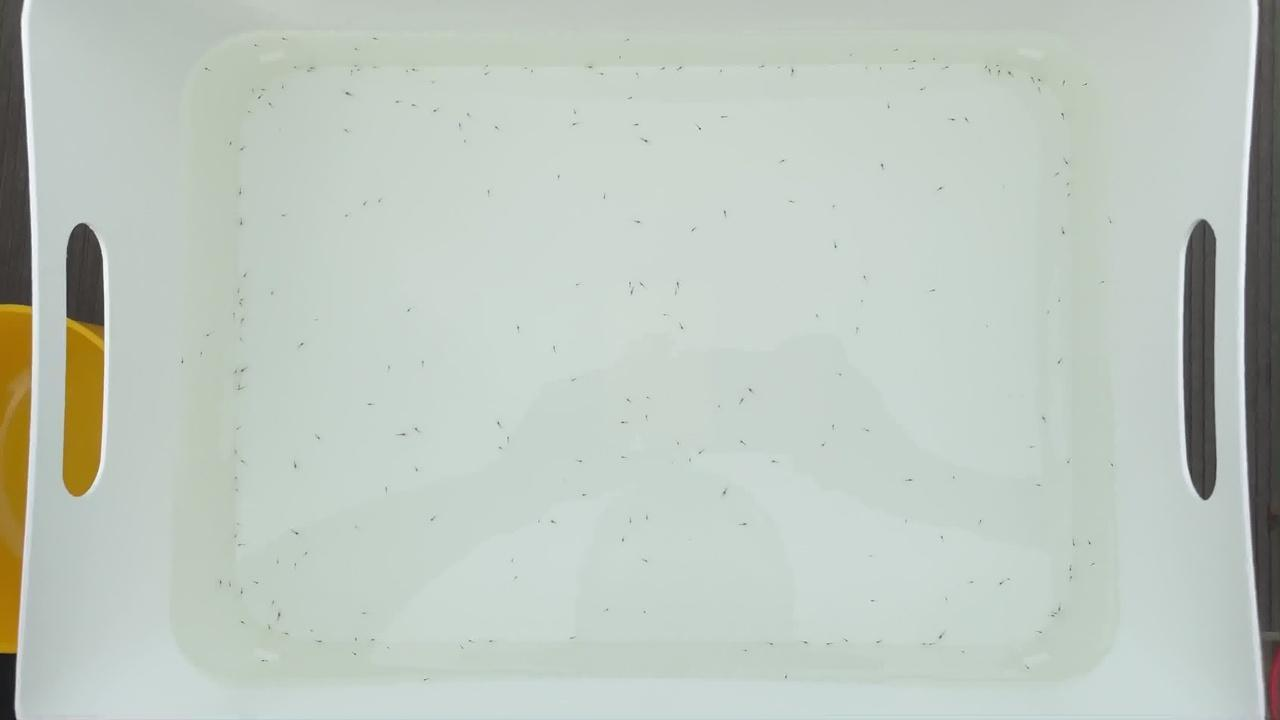shrimp: (1079, 82, 1091, 90), (1058, 78, 1070, 86), (1034, 75, 1046, 83), (1028, 76, 1040, 84), (1004, 69, 1016, 77), (994, 68, 1006, 76), (985, 68, 997, 76), (979, 64, 991, 72), (993, 62, 1005, 70), (942, 64, 954, 72), (929, 55, 941, 63), (908, 59, 920, 67), (907, 66, 919, 74), (891, 46, 903, 54), (876, 67, 888, 75), (861, 64, 873, 72), (787, 67, 799, 75), (755, 63, 767, 71), (717, 68, 729, 76), (675, 66, 687, 74), (659, 65, 671, 73), (622, 36, 634, 44), (615, 53, 627, 61), (632, 72, 644, 80), (597, 73, 609, 81), (586, 64, 598, 72), (569, 111, 581, 119), (568, 121, 580, 129), (554, 173, 566, 181), (625, 93, 637, 101), (632, 122, 644, 130), (640, 138, 652, 146), (696, 125, 708, 133), (719, 113, 731, 121), (778, 157, 790, 165), (883, 103, 895, 111), (918, 87, 930, 95), (947, 118, 959, 126), (961, 118, 973, 126), (1034, 87, 1046, 95), (1059, 112, 1071, 120), (1061, 158, 1073, 166), (1052, 172, 1064, 180), (1063, 181, 1075, 189), (1063, 191, 1075, 199), (1059, 228, 1071, 236), (1105, 219, 1117, 227), (935, 188, 947, 196), (877, 161, 889, 169), (786, 200, 798, 208), (719, 211, 731, 219), (688, 229, 700, 237), (634, 220, 646, 228), (597, 194, 609, 202), (827, 204, 839, 212), (831, 243, 843, 251), (1098, 278, 1110, 286), (1055, 297, 1067, 305), (1043, 310, 1055, 318), (1054, 359, 1066, 367), (1040, 416, 1052, 424), (928, 286, 940, 294), (859, 274, 871, 282), (857, 298, 869, 306), (853, 326, 865, 334), (811, 312, 823, 320), (677, 324, 689, 332), (659, 311, 671, 319), (671, 291, 683, 299), (674, 280, 686, 288), (637, 280, 649, 288), (626, 290, 638, 298), (625, 280, 637, 288), (574, 280, 586, 288), (550, 345, 562, 353), (569, 377, 581, 385), (624, 396, 636, 404), (618, 420, 630, 428), (642, 415, 654, 423), (642, 395, 654, 403), (712, 403, 724, 411), (737, 396, 749, 404), (746, 388, 758, 396), (834, 372, 846, 380), (829, 423, 841, 431), (818, 443, 830, 451), (769, 460, 781, 468), (736, 438, 748, 446), (861, 429, 873, 437), (903, 478, 915, 486), (947, 474, 959, 482), (1026, 444, 1038, 452), (1065, 458, 1077, 466), (1107, 463, 1119, 471), (1034, 481, 1046, 489), (975, 520, 987, 528), (938, 535, 950, 543), (902, 518, 914, 526), (866, 598, 878, 606), (874, 637, 886, 645), (919, 642, 931, 650), (925, 641, 937, 649), (936, 633, 948, 641), (942, 594, 954, 602), (969, 579, 981, 587), (996, 580, 1008, 588), (1003, 576, 1015, 584), (1065, 576, 1077, 584), (1066, 565, 1078, 573), (1088, 561, 1100, 569), (1085, 539, 1097, 547), (1069, 541, 1081, 549), (1056, 604, 1068, 612), (1048, 613, 1060, 621), (1035, 630, 1047, 638), (1023, 663, 1035, 671), (959, 649, 971, 657), (841, 638, 853, 646), (823, 642, 835, 650), (802, 640, 814, 648), (781, 676, 793, 684), (766, 642, 778, 650), (741, 648, 753, 656), (740, 520, 752, 528), (721, 491, 733, 499), (694, 450, 706, 458), (685, 457, 697, 465), (673, 440, 685, 448), (618, 454, 630, 462), (576, 458, 588, 466), (578, 492, 590, 500), (548, 520, 560, 528), (619, 536, 631, 544), (626, 517, 638, 525), (641, 516, 653, 524), (641, 558, 653, 566), (639, 609, 651, 617), (603, 607, 615, 615), (565, 635, 577, 643), (257, 658, 269, 666), (238, 619, 250, 627), (237, 588, 249, 596), (225, 580, 237, 588), (215, 579, 227, 587), (236, 543, 248, 551), (231, 533, 243, 541), (233, 521, 245, 529), (292, 532, 304, 540), (300, 550, 312, 558), (292, 562, 304, 570), (272, 559, 284, 567), (252, 580, 264, 588), (269, 599, 281, 607), (273, 612, 285, 620), (265, 624, 277, 632), (281, 632, 293, 640), (308, 628, 320, 636), (315, 637, 327, 645), (350, 650, 362, 658), (351, 636, 363, 644), (370, 637, 382, 645), (359, 610, 371, 618), (422, 677, 434, 685), (457, 646, 469, 654), (464, 637, 476, 645), (485, 638, 497, 646), (510, 575, 522, 583), (507, 558, 519, 566), (427, 515, 439, 523), (412, 466, 424, 474), (382, 485, 394, 493), (290, 464, 302, 472), (313, 434, 325, 442), (232, 425, 244, 433), (230, 449, 242, 457), (238, 460, 250, 468), (231, 474, 243, 482), (232, 488, 244, 496), (365, 401, 377, 409), (398, 431, 410, 439), (410, 427, 422, 435), (495, 446, 507, 454), (502, 435, 514, 443), (494, 420, 506, 428), (534, 518, 546, 526), (419, 361, 431, 369), (384, 365, 396, 373), (297, 340, 309, 348), (238, 368, 250, 376), (230, 369, 242, 377), (236, 385, 248, 393), (176, 357, 188, 365), (197, 350, 209, 358), (203, 332, 215, 340), (237, 316, 249, 324), (228, 310, 240, 318), (236, 300, 248, 308), (236, 295, 248, 303), (233, 289, 245, 297), (240, 271, 252, 279), (267, 290, 279, 298), (403, 306, 415, 314), (513, 325, 525, 333), (484, 189, 496, 197), (374, 198, 386, 206), (359, 202, 371, 210), (342, 213, 354, 221), (279, 212, 291, 220), (236, 220, 248, 228), (237, 188, 249, 196), (239, 146, 251, 154), (225, 141, 237, 149), (244, 109, 256, 117), (266, 102, 278, 110), (254, 95, 266, 103), (258, 87, 270, 95), (247, 89, 259, 97), (201, 64, 213, 72), (251, 42, 263, 50), (281, 35, 293, 43), (279, 84, 291, 92), (292, 64, 304, 72), (308, 64, 320, 72), (301, 68, 313, 76), (343, 90, 355, 98), (345, 68, 357, 76), (353, 67, 365, 75), (350, 62, 362, 70), (352, 47, 364, 55), (369, 35, 381, 43), (371, 64, 383, 72), (409, 66, 421, 74), (401, 67, 413, 75), (429, 78, 441, 86), (431, 108, 443, 116), (408, 102, 420, 110), (395, 97, 407, 105), (340, 127, 352, 135), (460, 138, 472, 146), (454, 122, 466, 130), (464, 111, 476, 119), (492, 123, 504, 131), (480, 70, 492, 78), (482, 62, 494, 70), (520, 65, 532, 73), (528, 68, 540, 76)
